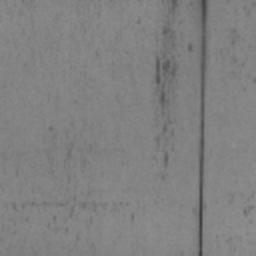Scratches: (198, 0, 207, 256), (155, 57, 161, 85), (160, 91, 167, 107), (243, 206, 254, 216), (170, 0, 178, 13), (164, 151, 169, 167)
